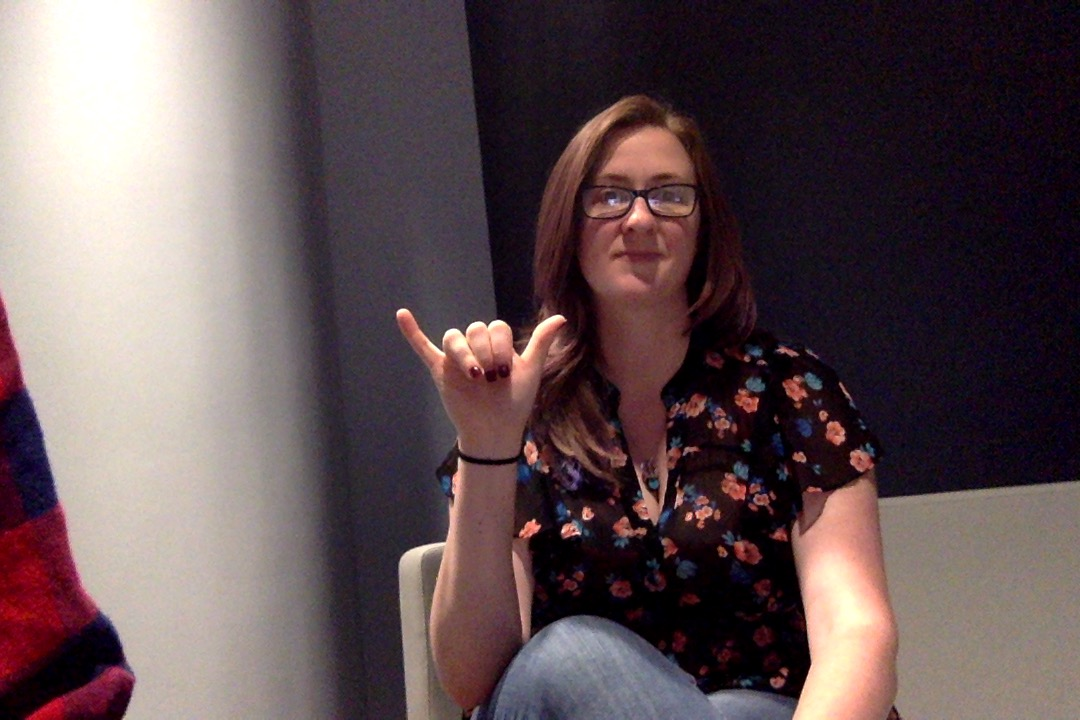y: (389, 300, 579, 477)
